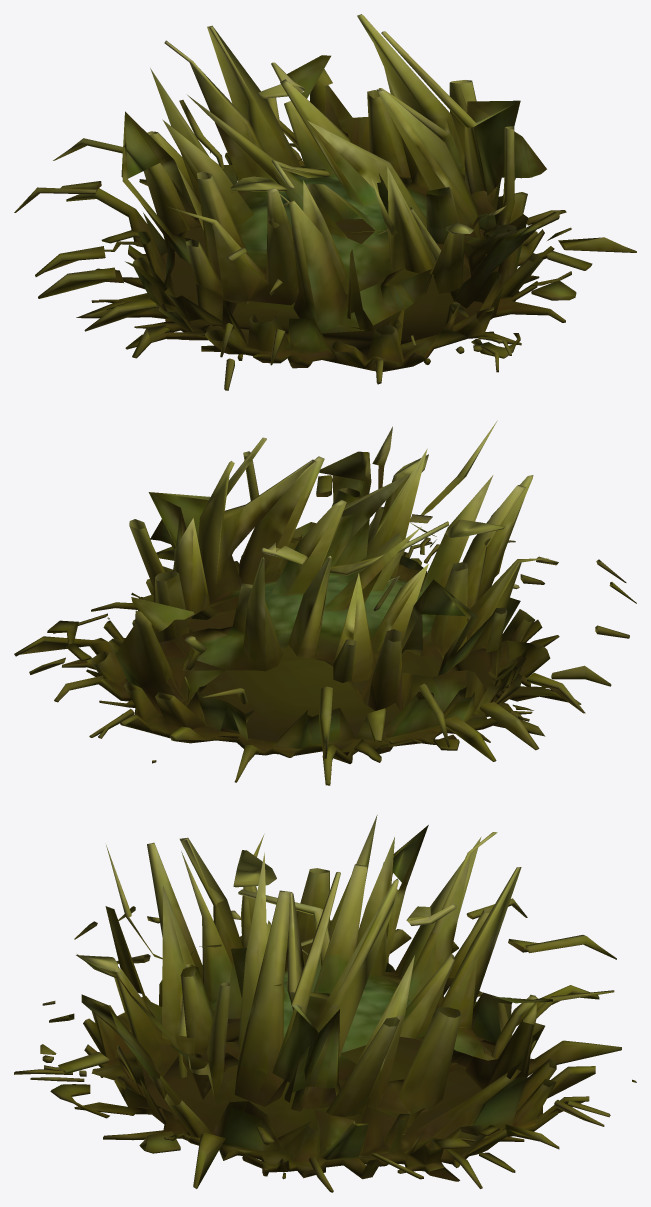
Rendered from bush.glb.
3 renders of one model, top to bottom at view 1: azimuth 30°, elevation 25°; view 2: azimuth 150°, elevation 25°; view 3: azimuth 270°, elevation 25°, orthographic. The views are drawn at different scales.
Visible parts, largest first — view 1: tripo_node_f5006944-5dde-4716-9532-9a5d83bd86a3; view 2: tripo_node_f5006944-5dde-4716-9532-9a5d83bd86a3; view 3: tripo_node_f5006944-5dde-4716-9532-9a5d83bd86a3.
Part boxes in pixels (x1,y1,x2,y2): tripo_node_f5006944-5dde-4716-9532-9a5d83bd86a3: (14, 14, 636, 390); tripo_node_f5006944-5dde-4716-9532-9a5d83bd86a3: (14, 420, 636, 785); tripo_node_f5006944-5dde-4716-9532-9a5d83bd86a3: (14, 815, 636, 1192).
Bounding box in the file's own units: 0.9315 × 0.4364 × 0.9726.
Materials: 1 (1 with a texture image).
